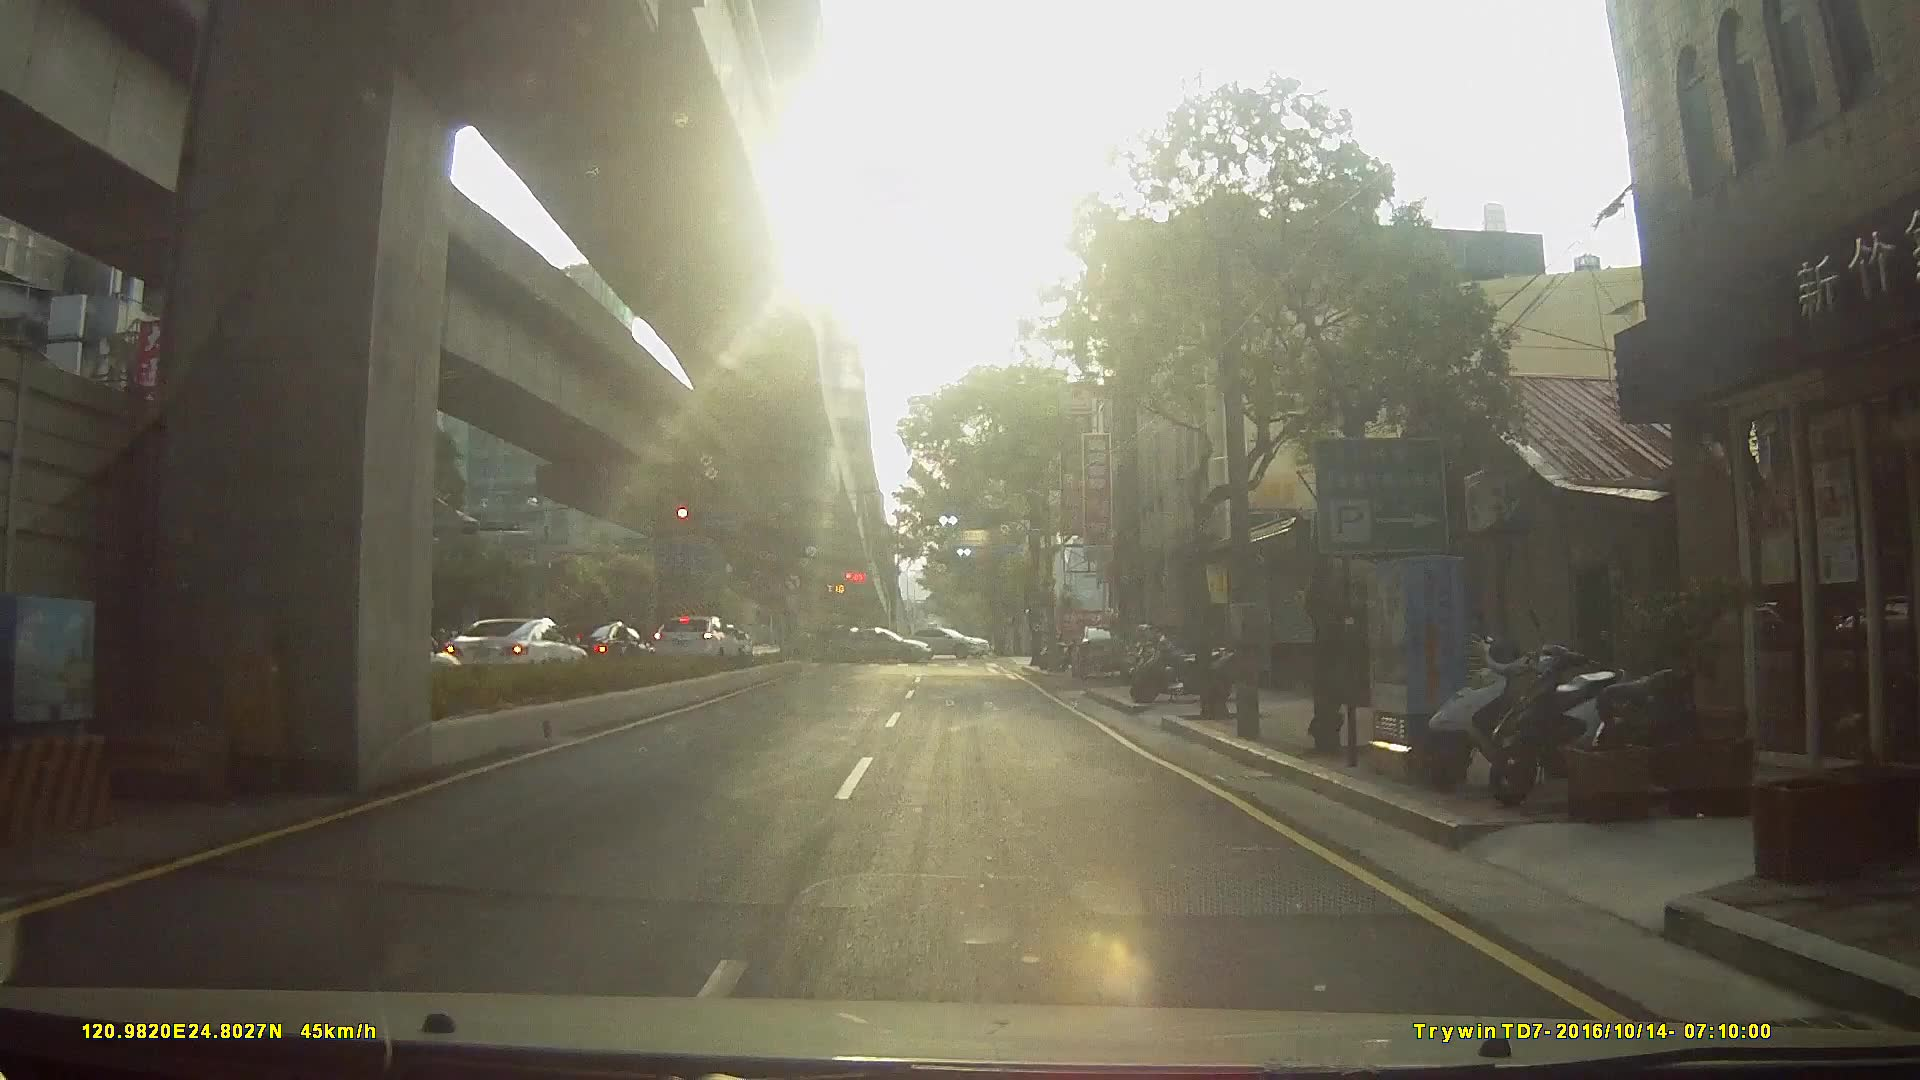vehicle: (433, 616, 583, 686), (545, 620, 654, 676), (645, 616, 745, 669), (832, 625, 938, 663), (1067, 618, 1133, 675), (903, 624, 996, 659), (804, 624, 882, 665)
